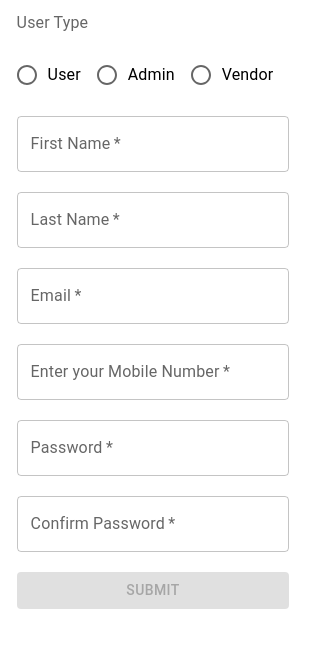
it: Register Component › shows a password validation error when passwords dont match
Type "password123" into the password field labelled "Password *".
click(153, 448); type("password123")  # box [17,420,289,476]
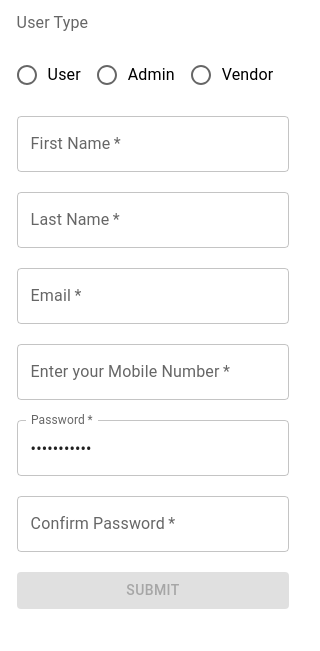
Type "2" into the password field labelled "Confirm Password *".
click(153, 524); type("2")  # box [17,496,289,552]
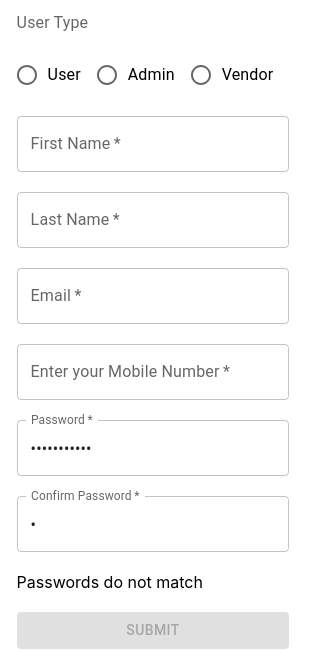
Expected: the text "Passwords do not match" is shown, [17,572,203,592]
